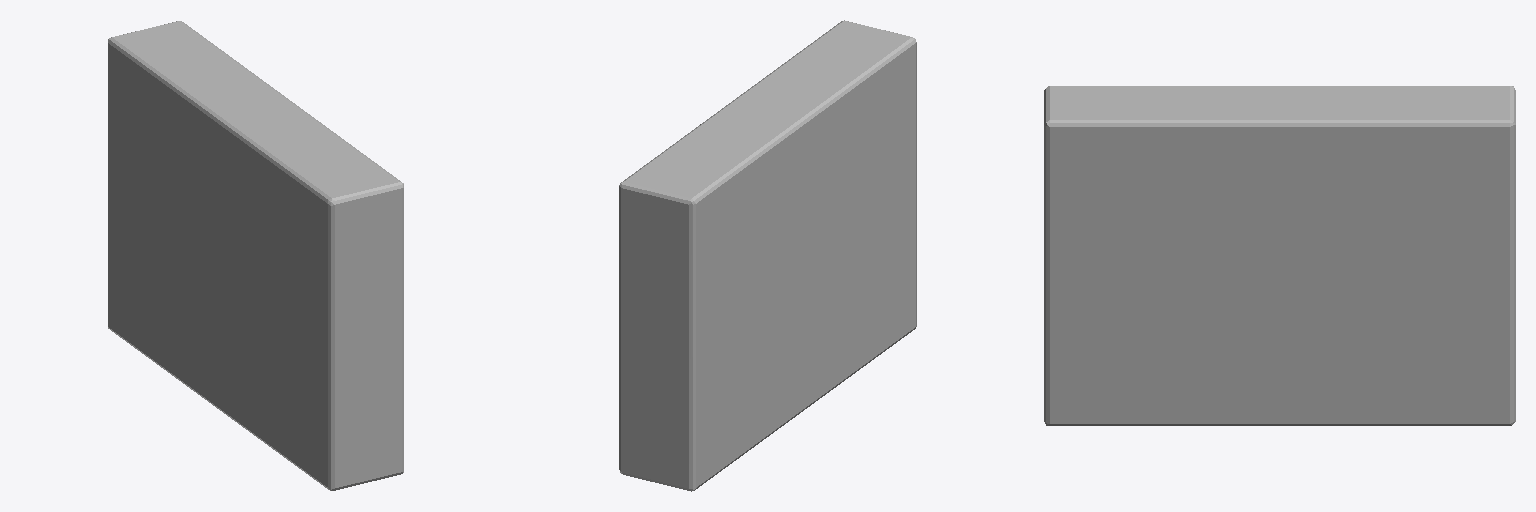
URDF robot description (root):
<robot name="root">
  <link name="link_coacd_convex_piece_0">
    <inertial>
      <origin xyz="0 0 0" rpy="0 0 0"/>
      <inertia ixx="1.54E-01" ixy="9.59E-08" ixz="2.51E-07" iyy="1.06E-01" iyz="6.24E-07" izz="5.63E-02"/>
    </inertial>
    <visual>
      <origin xyz="0 0 0" rpy="0 0 0"/>
      <geometry>
        <mesh filename="coacd_convex_piece_0.obj" scale="1.0000E+00 1.0000E+00 1.0000E+00"/>
      </geometry>
      <material name="">
        <color rgba="7.50E-01 7.50E-01 7.50E-01 1"/>
      </material>
    </visual>
    <collision>
      <origin xyz="0 0 0" rpy="0 0 0"/>
      <geometry>
        <mesh filename="coacd_convex_piece_0.obj" scale="1.0000E+00 1.0000E+00 1.0000E+00"/>
      </geometry>
    </collision>
  </link>
</robot>

--- What the picture shows (computed from the rendered views, not written in the file) ---
3 views of the same robot in one strip: view 1: azimuth 30°, elevation 25°; view 2: azimuth 150°, elevation 25°; view 3: azimuth 270°, elevation 25° (orthographic).
Robot: root — 1 links, 0 joints (none); root link link_coacd_convex_piece_0; default pose: every joint at zero.
Links seen in each view (by area): view 1: link_coacd_convex_piece_0; view 2: link_coacd_convex_piece_0; view 3: link_coacd_convex_piece_0.
Link boxes in pixels (x1=…): link_coacd_convex_piece_0: x1=108, y1=21, x2=403, y2=490; link_coacd_convex_piece_0: x1=619, y1=20, x2=916, y2=491; link_coacd_convex_piece_0: x1=1044, y1=86, x2=1515, y2=425.
Size in the robot's own frame: 0.3094 by 1.58 by 1.13 metres.
1 mesh visuals loaded from 1 distinct referenced files (1 OBJ).
